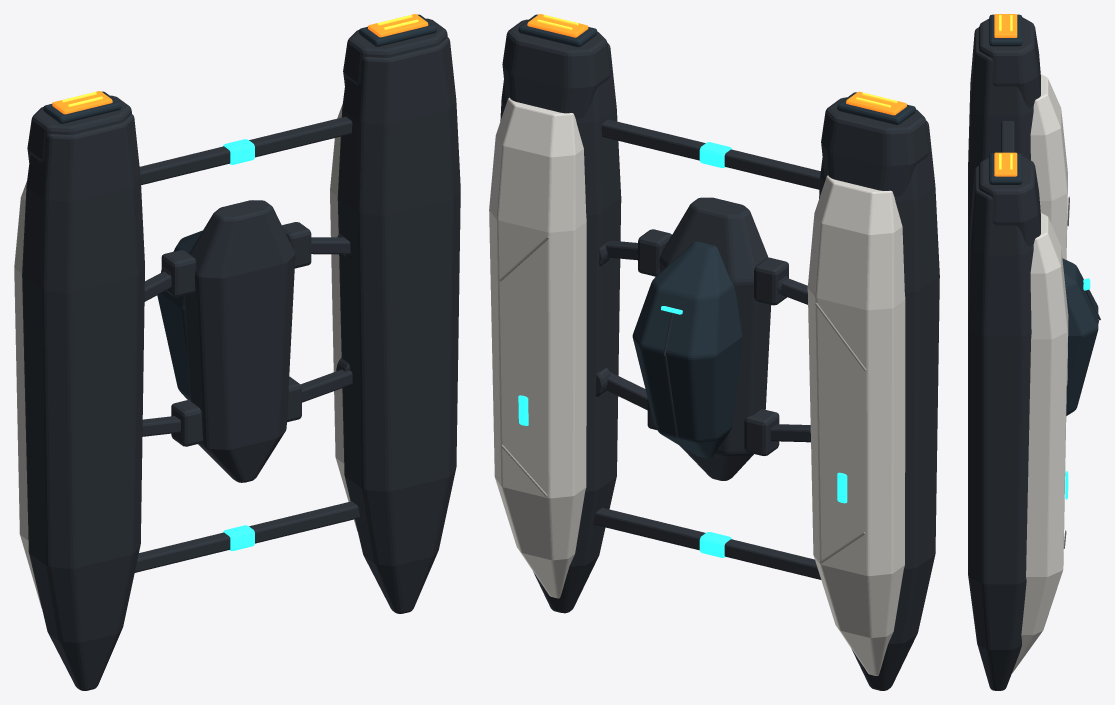
Rendered from twin_rail_vector.glb.
3 views of the same model, side by side, from view 1: azimuth 30°, elevation 25°; view 2: azimuth 150°, elevation 25°; view 3: azimuth 270°, elevation 25° (orthographic). The views are drawn at different scales.
Parts seen in each view (by area): view 1: left_rail_underbody, right_rail_underbody, central_chassis, front_rail_crossbar, rear_rail_crossbar, left_rail_shell, right_rail_shell, cockpit_capsule, left_thruster_shroud, right_thruster_shroud, cockpit_left_hardpoint_rear, cockpit_left_hardpoint_front (+6 smaller); view 2: right_rail_shell, left_rail_shell, cockpit_capsule, left_rail_underbody, right_rail_underbody, central_chassis, right_thruster_shroud, left_thruster_shroud, front_rail_crossbar, rear_rail_crossbar, cockpit_left_hardpoint_front, cockpit_left_hardpoint_rear (+5 smaller); view 3: right_rail_underbody, right_rail_shell, left_rail_underbody, left_rail_shell, cockpit_capsule, left_thruster_shroud, right_thruster_shroud, left_thruster_cavity, right_thruster_cavity, right_thruster_core, left_thruster_core, rear_rail_crossbar.
Part boxes in pixels (x1,y1,x2,y2): left_rail_underbody: (22,114,144,690); right_rail_underbody: (337,37,460,613); central_chassis: (184,200,295,482); front_rail_crossbar: (134,501,360,572); rear_rail_crossbar: (139,116,352,185); left_rail_shell: (14,181,41,608); right_rail_shell: (330,104,357,531); cockpit_capsule: (157,230,202,399); left_thruster_shroud: (27,95,131,162); right_thruster_shroud: (343,18,447,85); cockpit_left_hardpoint_rear: (161,250,196,297); cockpit_left_hardpoint_front: (171,399,202,446); right_rail_shell: (489,97,586,598); left_rail_shell: (807,175,905,675); cockpit_capsule: (632,241,742,458); left_rail_underbody: (819,120,939,690); right_rail_underbody: (500,43,621,613); central_chassis: (659,197,771,480); right_thruster_shroud: (502,19,610,119); left_thruster_shroud: (821,97,929,196); front_rail_crossbar: (593,507,821,579); rear_rail_crossbar: (601,119,820,189); cockpit_left_hardpoint_front: (744,409,779,455); cockpit_left_hardpoint_rear: (754,257,788,305); right_rail_underbody: (968,166,1033,690); right_rail_shell: (1012,213,1067,672); left_rail_underbody: (968,27,1033,300); left_rail_shell: (1030,74,1067,259); cockpit_capsule: (1062,258,1098,415); left_thruster_shroud: (978,17,1040,107); right_thruster_shroud: (978,156,1040,246); left_thruster_cavity: (989,14,1022,46); right_thruster_cavity: (989,153,1022,184); right_thruster_core: (994,152,1017,176); left_thruster_core: (994,14,1017,37); rear_rail_crossbar: (1001,121,1014,152).
Size of the model in its own units: 1.96 by 2.63 by 0.5989.
